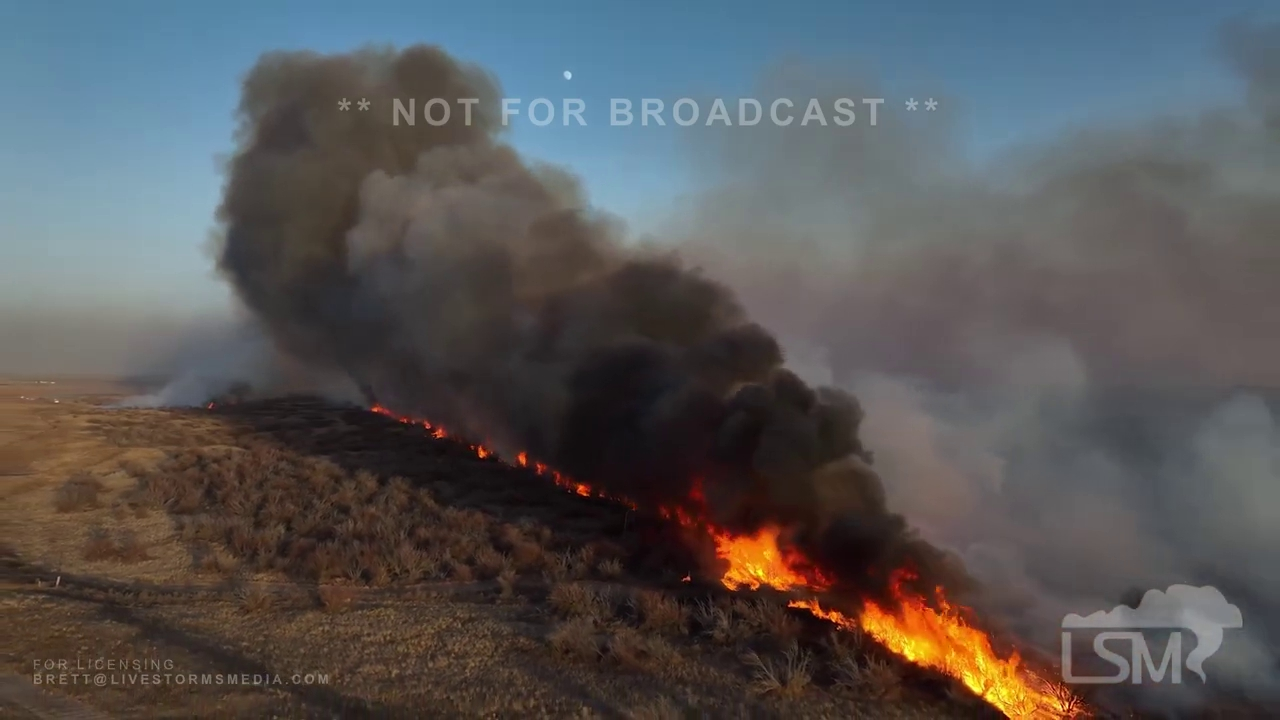forest_fire: (654, 508, 1077, 717), (512, 452, 637, 508), (370, 403, 447, 436), (467, 443, 496, 456), (689, 490, 695, 507)
